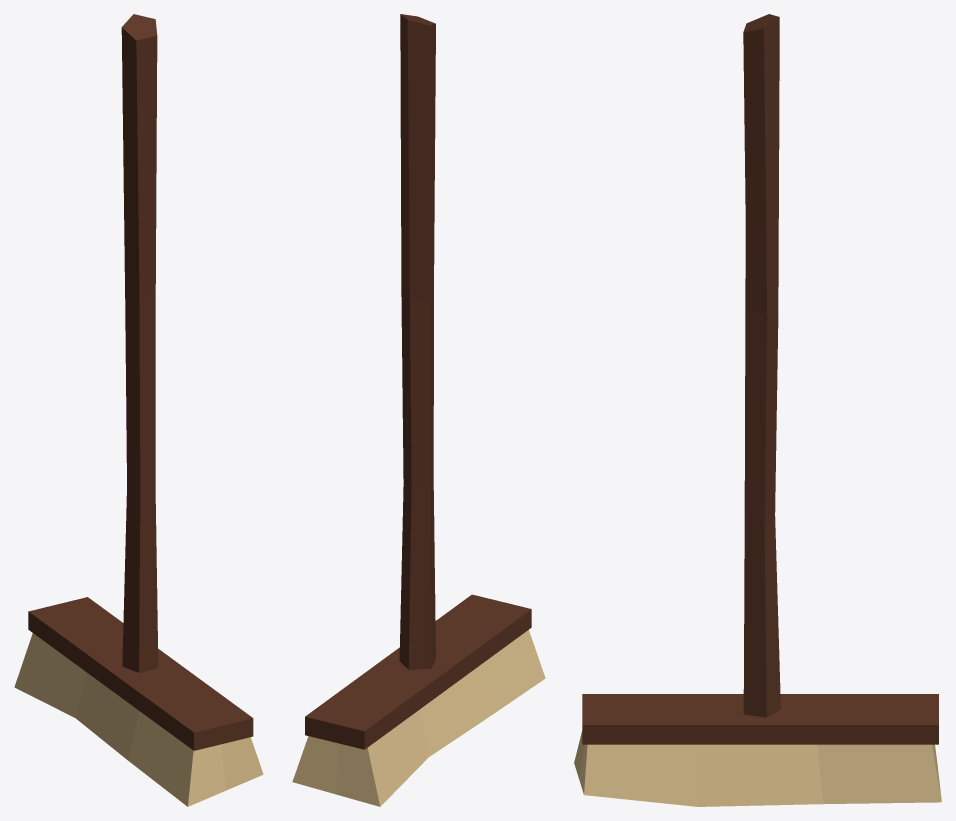
File: broom.fbx
The picture shows the model from 3 angles, left to right: view 1: azimuth 30°, elevation 25°; view 2: azimuth 150°, elevation 25°; view 3: azimuth 270°, elevation 25°; orthographic projection. The views are drawn at different scales.
Parts seen in each view (by area): view 1: Cylinder; view 2: Cylinder; view 3: Cylinder.
Part boxes in pixels (x1,y1,x2,y2): Cylinder: (14,14,263,806); Cylinder: (292,14,545,806); Cylinder: (574,14,941,806).
Bounding box in the file's own units: 111 × 836 × 361.
